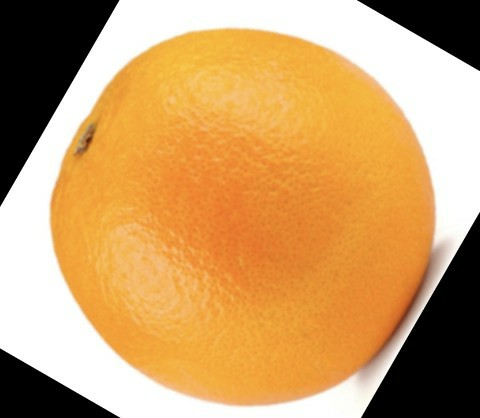fresh_orange: (52, 32, 438, 404)
